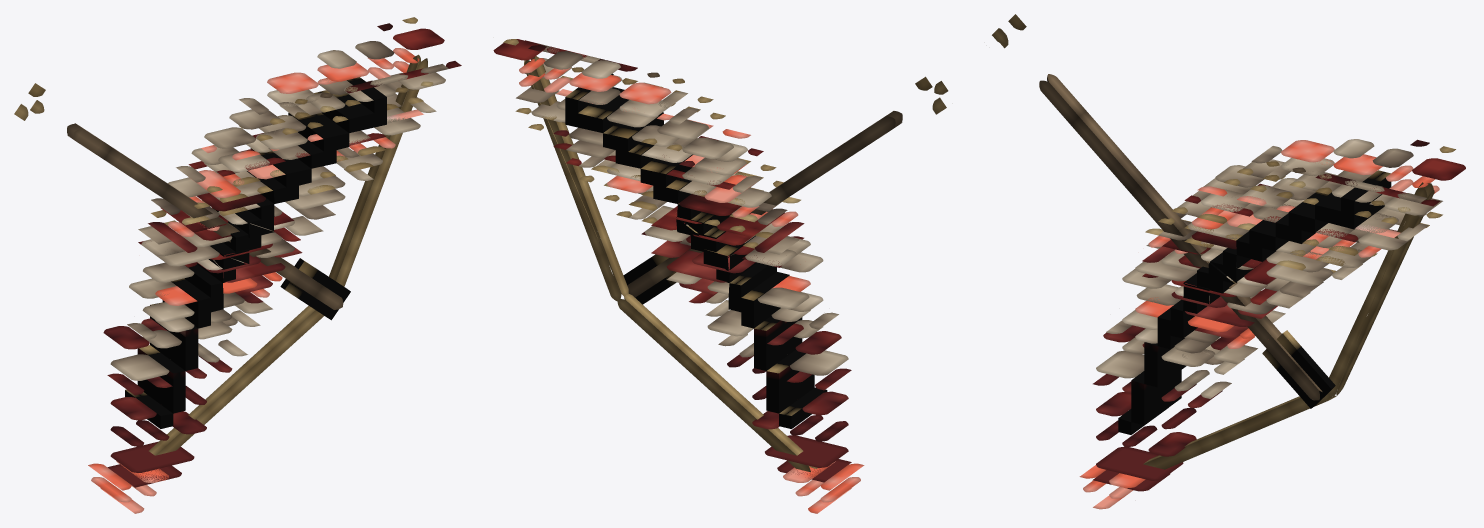
Rendered from tendon_bow_pulling_1.obj.
3 renders of one model, left to right at view 1: azimuth 30°, elevation 25°; view 2: azimuth 150°, elevation 25°; view 3: azimuth 330°, elevation 25°, orthographic. The views are drawn at different scales.
Parts seen in each view (by area): view 1: lit, fire; view 2: lit, fire; view 3: lit, fire.
Boxes of the visible parts, bbox=[...] form: lit: bbox=[14, 17, 461, 513]; fire: bbox=[125, 77, 386, 428]; lit: bbox=[493, 39, 948, 513]; fire: bbox=[565, 73, 827, 428]; lit: bbox=[992, 14, 1465, 509]; fire: bbox=[1118, 170, 1391, 434].
Size of the model in its own units: 1.08 by 1.05 by 0.1814.
